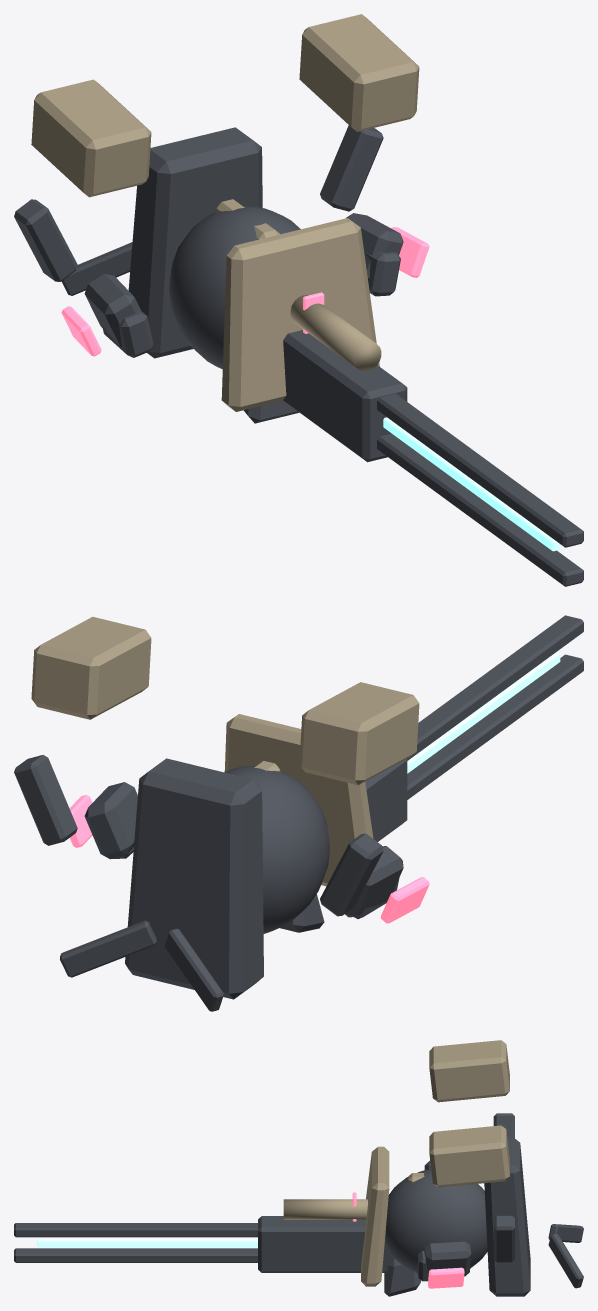
The model's file is boss_viper_kit.glb.
The picture shows the model from 3 angles, top to bottom: view 1: azimuth 30°, elevation 25°; view 2: azimuth 150°, elevation 25°; view 3: azimuth 270°, elevation 25°; orthographic projection. The views are drawn at different scales.
Visible parts, largest first — view 1: AeroChest, ExoSpine, MissilePod_-1, MissilePod_1, RailBody, StealthShell, RailUpper, RailLower, PodArm_1, RailOptic, PodArm_-1, RailCore (+8 smaller); view 2: ExoSpine, MissilePod_1, MissilePod_-1, StealthShell, AeroChest, RailUpper, RailLower, PodArm_1, VP_Pauldron_1_Cap, PodArm_-1, StealthFin_1, RailBody (+6 smaller); view 3: StealthShell, RailBody, MissilePod_1, MissilePod_-1, ExoSpine, RailLower, RailUpper, AeroChest, RailCore, RailOptic, VP_Pauldron_1_Cap, PodArm_1 (+5 smaller).
Part boxes in pixels (x1=…): AeroChest: x1=221, y1=218, x2=379, y2=411; ExoSpine: x1=128, y1=127, x2=262, y2=358; MissilePod_-1: x1=31, y1=79, x2=151, y2=197; MissilePod_1: x1=299, y1=14, x2=419, y2=131; RailBody: x1=283, y1=330, x2=407, y2=462; StealthShell: x1=169, y1=206, x2=300, y2=368; RailUpper: x1=377, y1=393, x2=583, y2=547; RailLower: x1=377, y1=433, x2=583, y2=586; PodArm_1: x1=320, y1=125, x2=383, y2=211; RailOptic: x1=290, y1=295, x2=381, y2=371; PodArm_-1: x1=14, y1=199, x2=77, y2=281; RailCore: x1=383, y1=417, x2=560, y2=551; ExoSpine: x1=125, y1=758, x2=263, y2=999; MissilePod_1: x1=31, y1=616, x2=151, y2=719; MissilePod_-1: x1=299, y1=682, x2=419, y2=785; StealthShell: x1=224, y1=766, x2=329, y2=933; AeroChest: x1=224, y1=714, x2=373, y2=886; RailUpper: x1=407, y1=615, x2=583, y2=760; RailLower: x1=407, y1=654, x2=583, y2=799; PodArm_1: x1=14, y1=755, x2=77, y2=845; VP_Pauldron_1_Cap: x1=84, y1=782, x2=137, y2=859; PodArm_-1: x1=320, y1=833, x2=383, y2=916; StealthFin_1: x1=60, y1=920, x2=156, y2=977; RailBody: x1=365, y1=759, x2=407, y2=841; StealthShell: x1=385, y1=1169, x2=487, y2=1273; RailBody: x1=258, y1=1216, x2=394, y2=1272; MissilePod_1: x1=429, y1=1125, x2=509, y2=1187; MissilePod_-1: x1=429, y1=1040, x2=509, y2=1102; ExoSpine: x1=484, y1=1137, x2=530, y2=1296; RailLower: x1=14, y1=1248, x2=257, y2=1262; RailUpper: x1=14, y1=1223, x2=257, y2=1237; AeroChest: x1=361, y1=1146, x2=389, y2=1286; RailCore: x1=37, y1=1238, x2=257, y2=1247; RailOptic: x1=283, y1=1199, x2=367, y2=1219; VP_Pauldron_1_Cap: x1=424, y1=1241, x2=471, y2=1276; PodArm_1: x1=493, y1=1215, x2=514, y2=1262.
Size of the model in its own units: 0.5741 by 0.4593 by 1.21.
